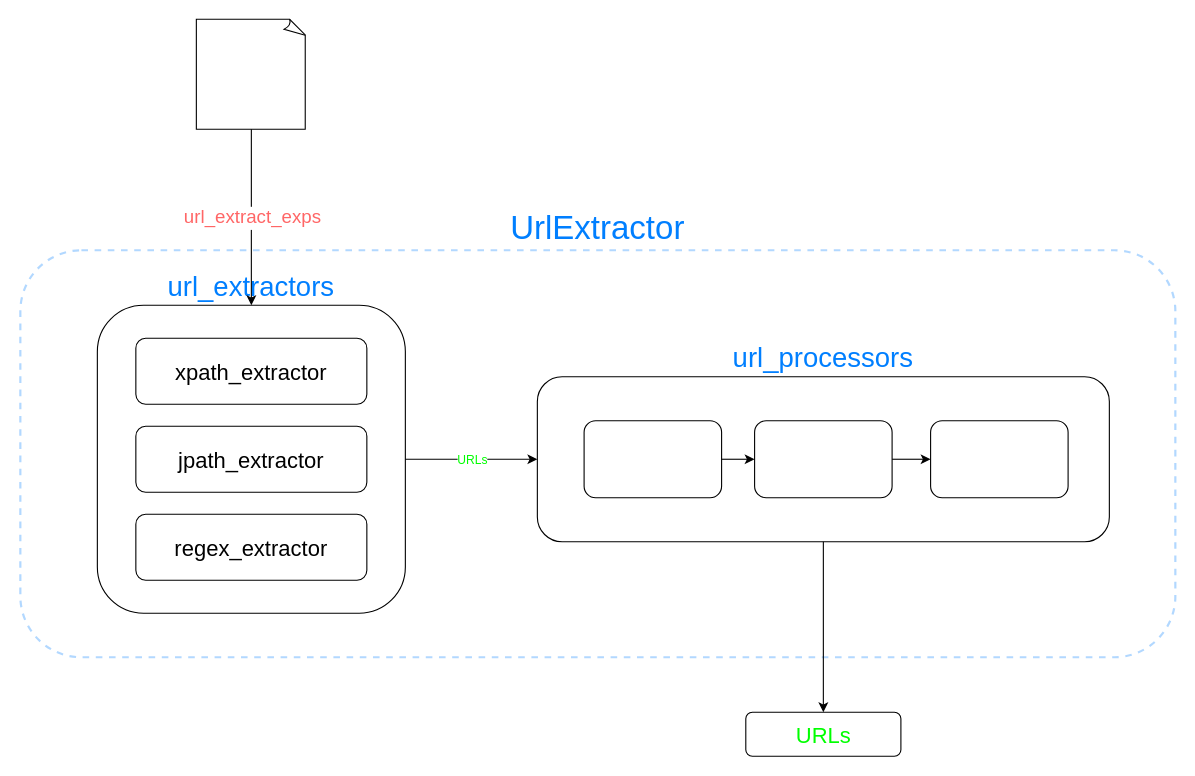
Image size: 1195x776. Some labels were removed from this diagram. Each missing label, with the centre of its shape:
"processorA" belongs at point (652, 459).
"processorB" belongs at point (823, 459).
"processorC" belongs at point (999, 459).
"text" belongs at point (250, 73).
